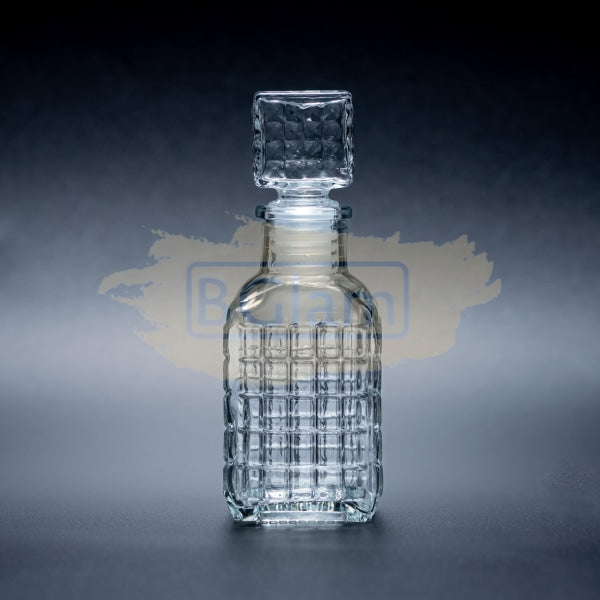glass_bottle: (211, 67, 403, 548)
